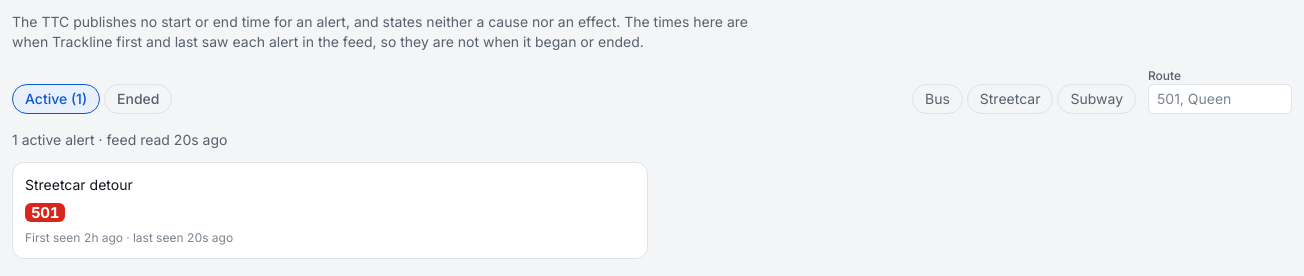
Test case: the alerts page › filters › says nothing matches, and that the alerts exist, when a filter removes them all
expect the text "1 active alert · feed read 20s ago" is shown: met, box [12,131,227,148]
Click the button "Subway".
click(1097, 99)  # box [1057,84,1136,114]
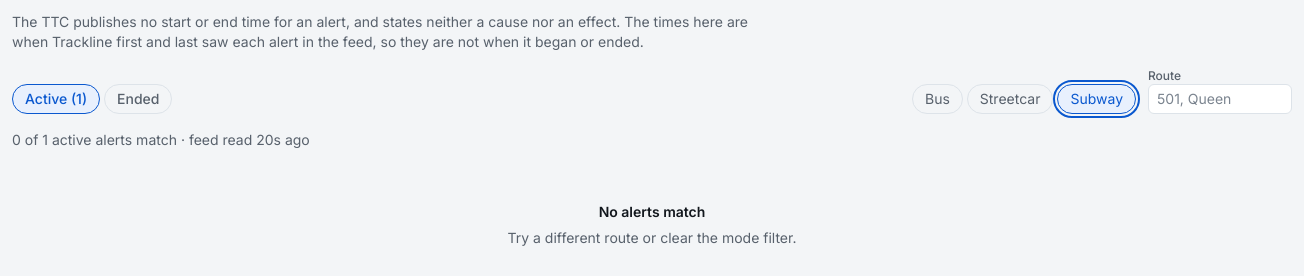
expect the text "No alerts match" is shown: met, box [599,203,705,220]
